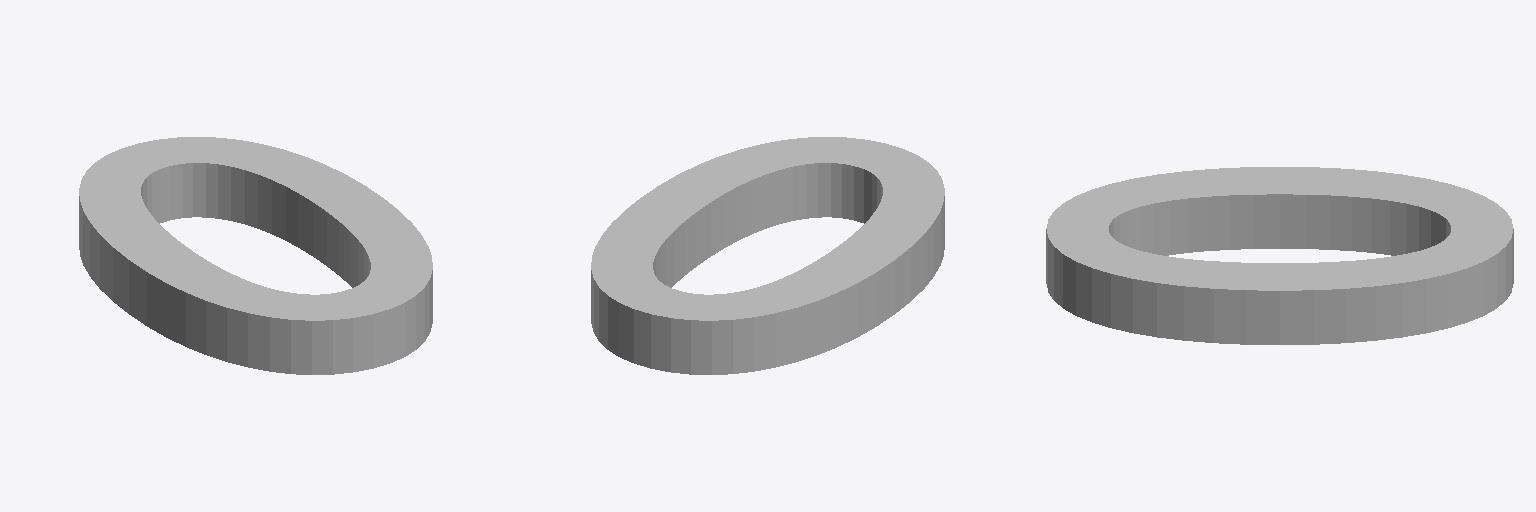
Rendered from zero.obj.
3 views of the same model, side by side, from view 1: azimuth 30°, elevation 25°; view 2: azimuth 150°, elevation 25°; view 3: azimuth 270°, elevation 25° (orthographic).
Visible parts, largest first — view 1: Text.005; view 2: Text.005; view 3: Text.005.
Part boxes in pixels (bbox=[...]): Text.005: bbox=[79, 137, 432, 374]; Text.005: bbox=[591, 137, 944, 374]; Text.005: bbox=[1046, 167, 1513, 344].
Bounding box in the file's own units: 0.44 × 0.09 × 0.7.